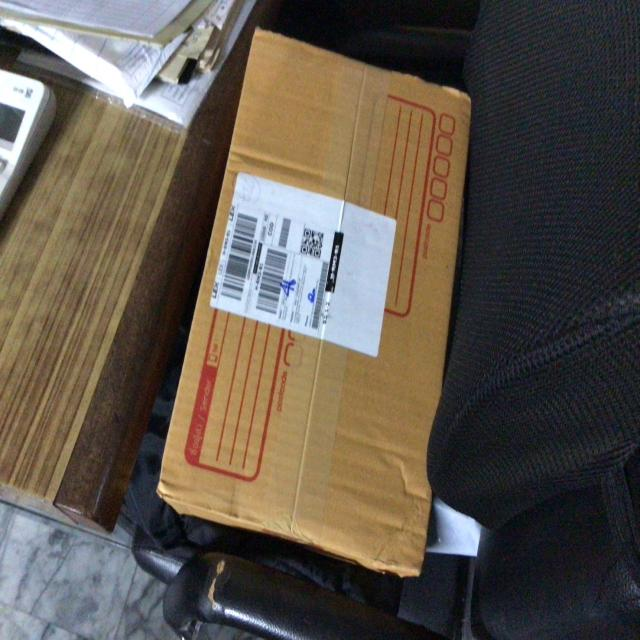cardboard: (165, 32, 464, 593)
